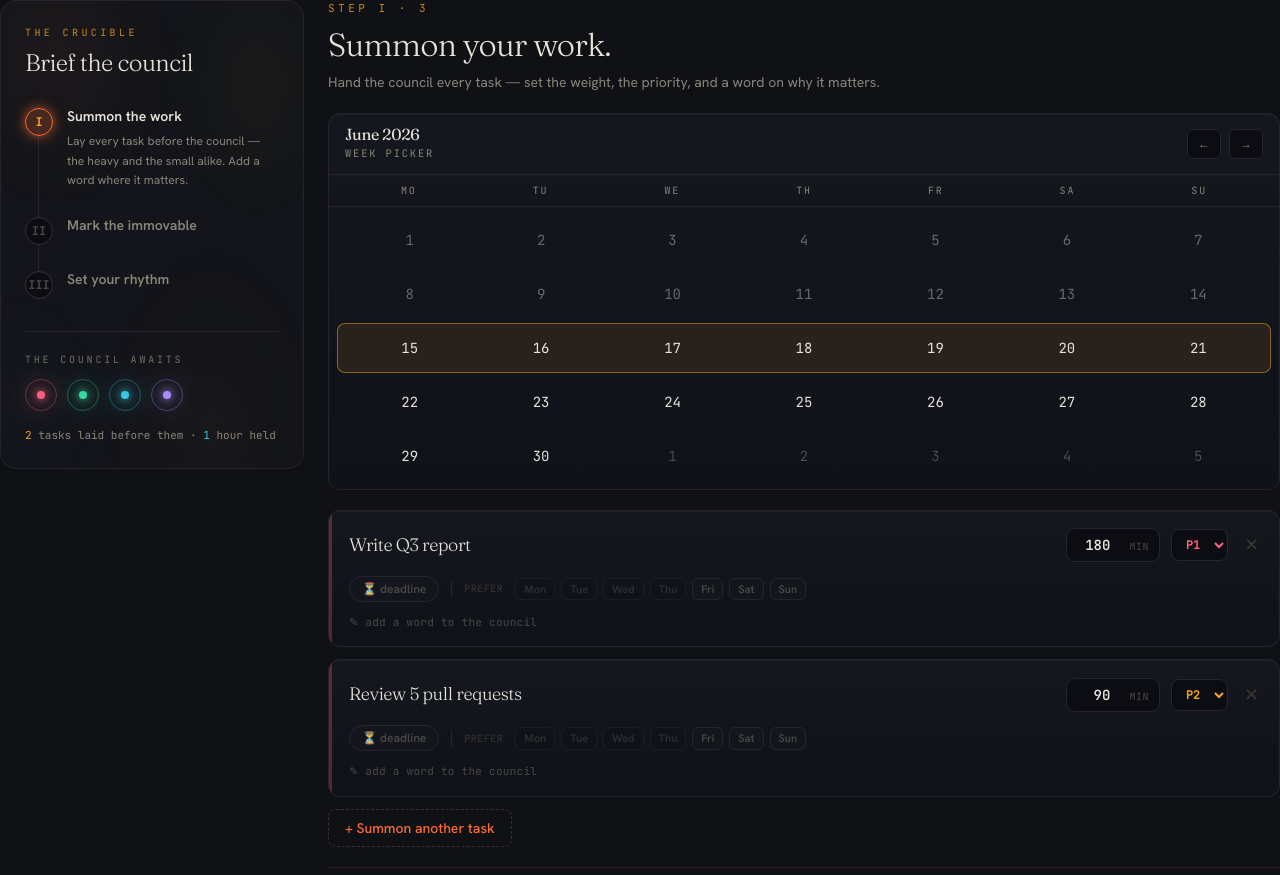
Scenario: TaskForm › removing a middle task row does not corrupt the remaining rows
This screenshot has width=1280, height=875.
// Add a third task row.
Click the button with test id "add-task-btn": (420, 828) [328,809,512,847]
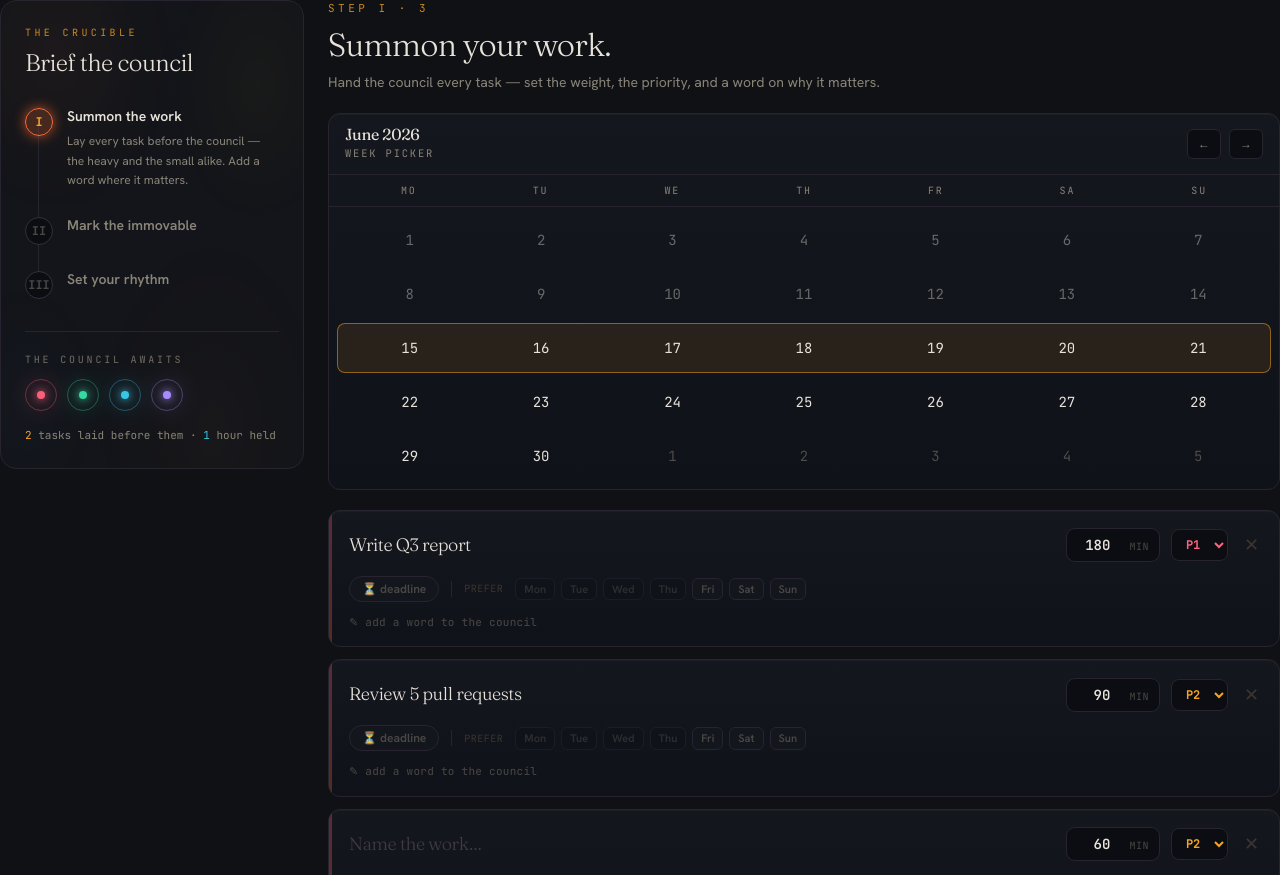
// Fill the new (third) task title.
In the field with test id "task-title-input": (702, 844) [349,826,1055,863], type "Third task"
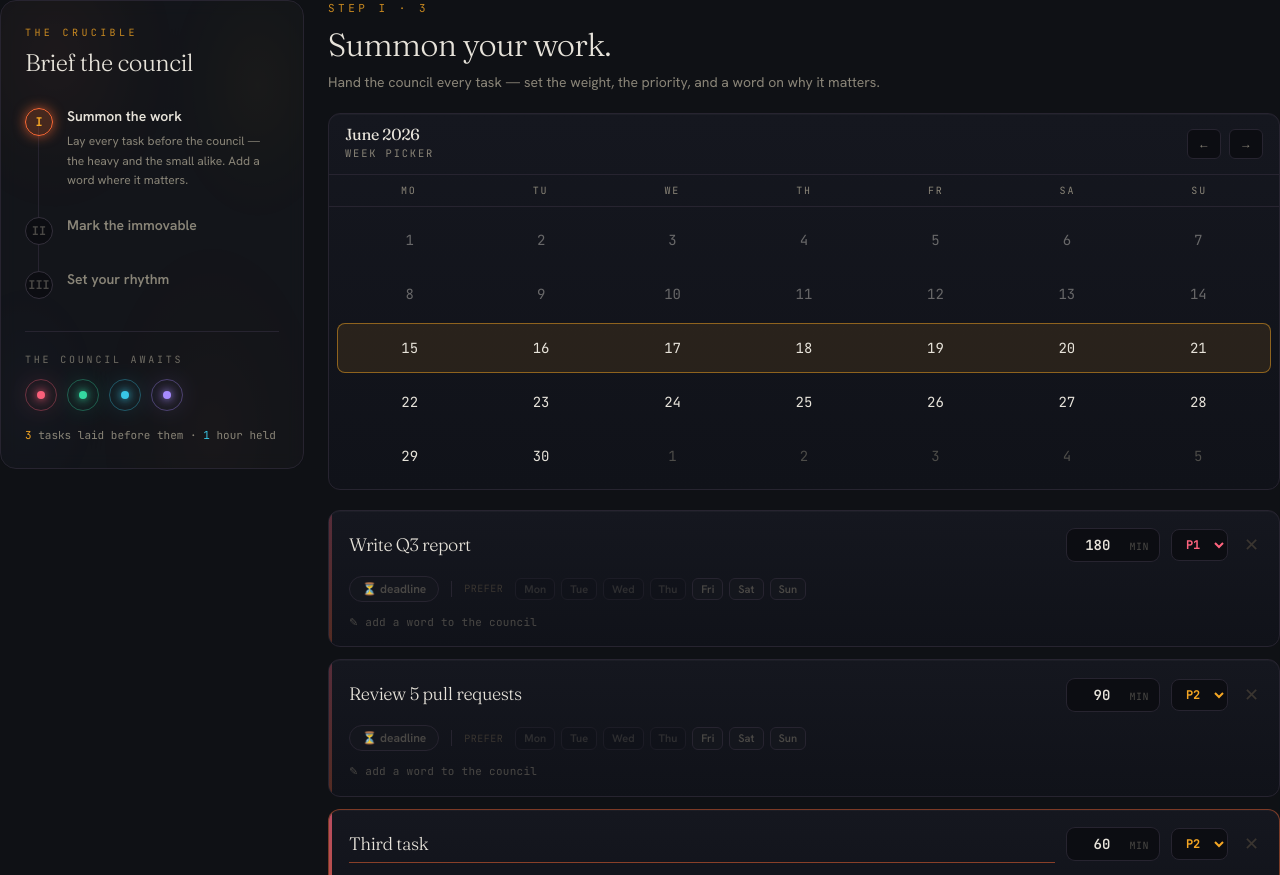
// Remove the first row.
Click the 1st button with test id "task-remove": (1251, 545) [1240,536,1263,554]
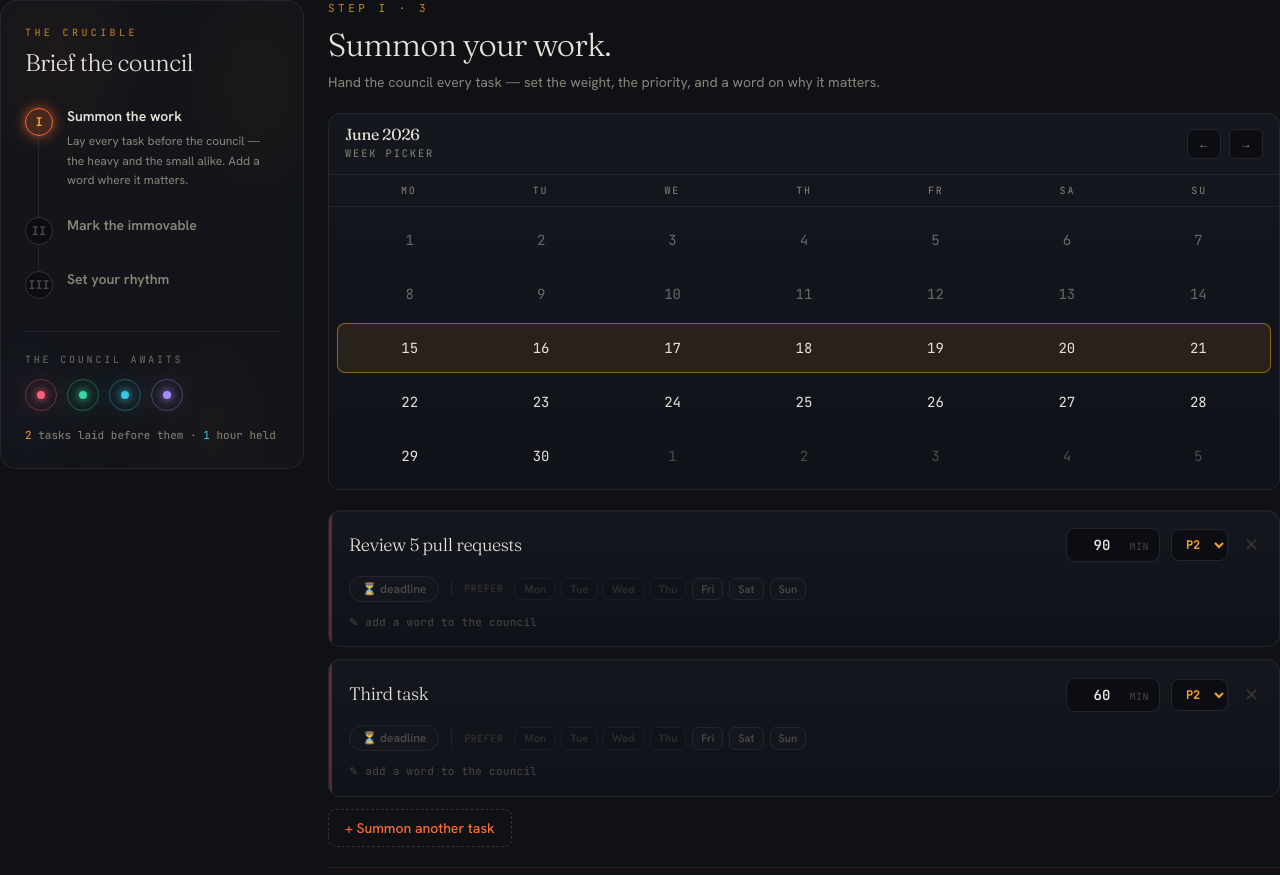
expect the number of elements with test id "task-row" is 2: met, box [328,510,1279,647]; [328,659,1279,797]
